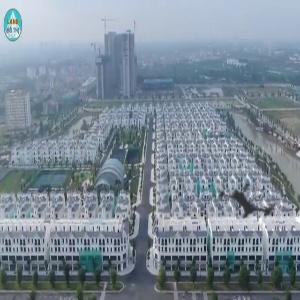drone: (194, 150, 296, 252)
